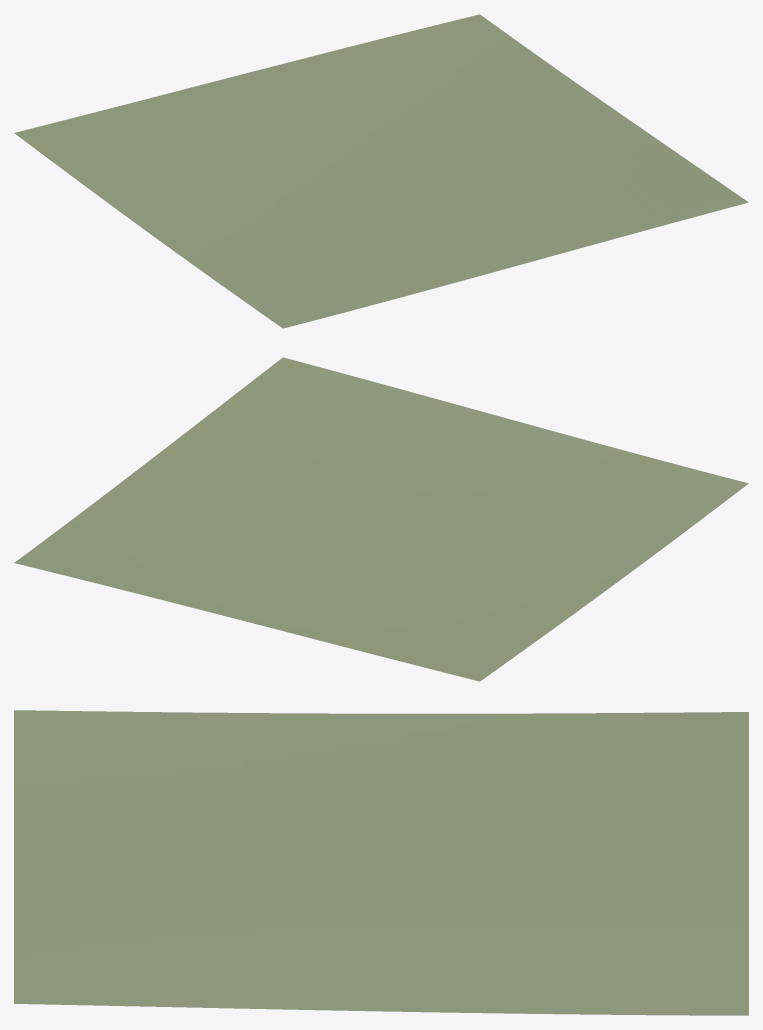
Rendered from expanse-5-18.glb.
3 views of the same model, one above another, from view 1: azimuth 30°, elevation 25°; view 2: azimuth 150°, elevation 25°; view 3: azimuth 270°, elevation 25° (orthographic). The views are drawn at different scales.
Parts seen in each view (by area): view 1: expanse-5-18; view 2: expanse-5-18; view 3: expanse-5-18.
Boxes of the visible parts, <box> form: expanse-5-18: <box>14,14,748,328</box>; expanse-5-18: <box>14,357,748,681</box>; expanse-5-18: <box>14,710,748,1015</box>.
Size of the model in its own units: 256 by 7.87 by 256.
